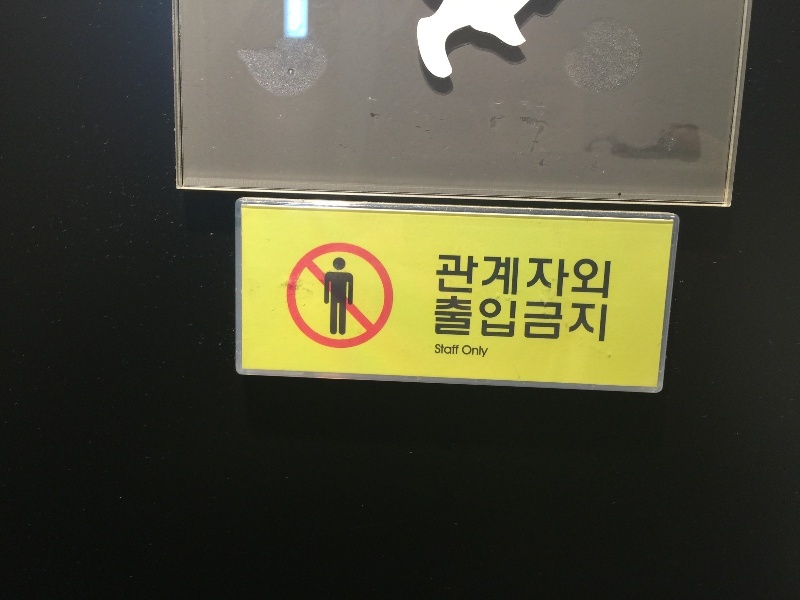text: (449, 296, 464, 345), (465, 296, 480, 345), (481, 296, 496, 345), (497, 296, 512, 345), (513, 296, 528, 345), (529, 296, 544, 345), (545, 296, 560, 345), (561, 296, 576, 345), (577, 296, 592, 345), (593, 296, 608, 345), (449, 256, 464, 301), (465, 256, 480, 301), (481, 256, 496, 301), (497, 256, 512, 301), (513, 256, 528, 301), (529, 256, 544, 301), (545, 256, 560, 301), (561, 256, 576, 301), (577, 256, 592, 301), (593, 256, 608, 301), (435, 296, 448, 345), (436, 256, 448, 301), (449, 344, 464, 359), (465, 344, 480, 359), (434, 344, 448, 359), (609, 256, 613, 301), (481, 344, 489, 359), (609, 296, 610, 345)
